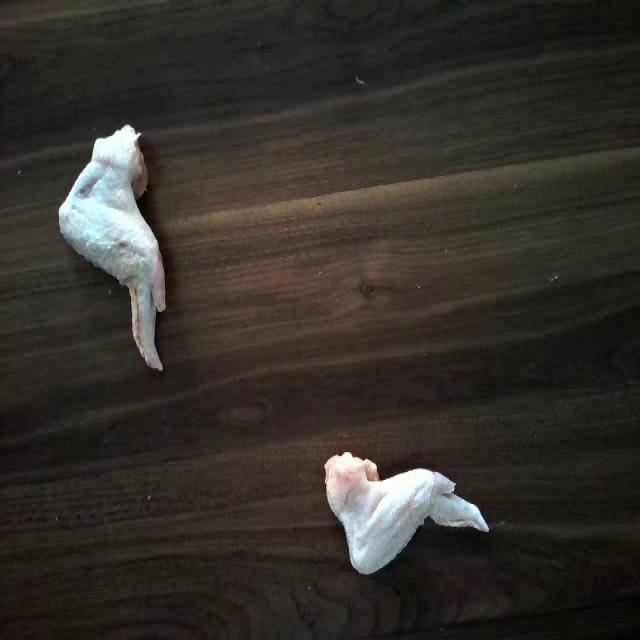wing: (61, 128, 182, 372), (317, 449, 497, 579)
